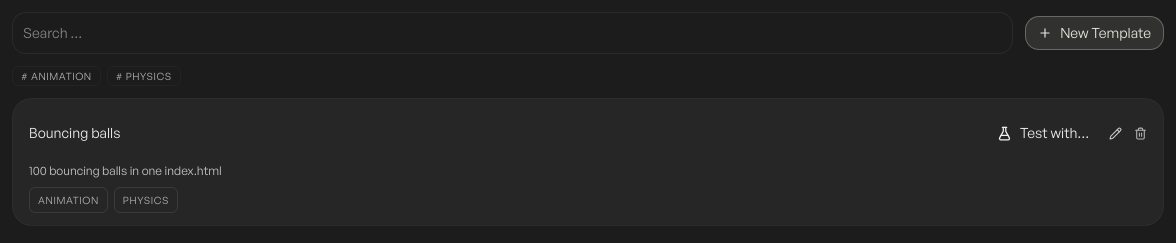
Test: PromptLibraryTab › filters by search
The image size is (1176, 243).
Expected: the text "Bouncing balls" is shown, [29,123,120,143]
In the field with placeholder "Search …": (513, 33) [12,12,1013,54], type "zzz"
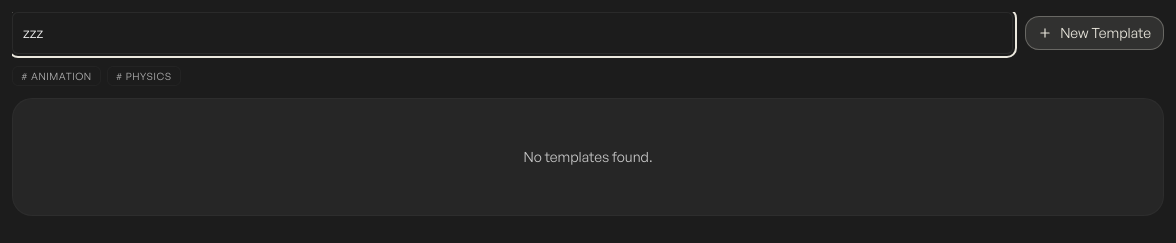
Expected: the text "Bouncing balls" is gone
